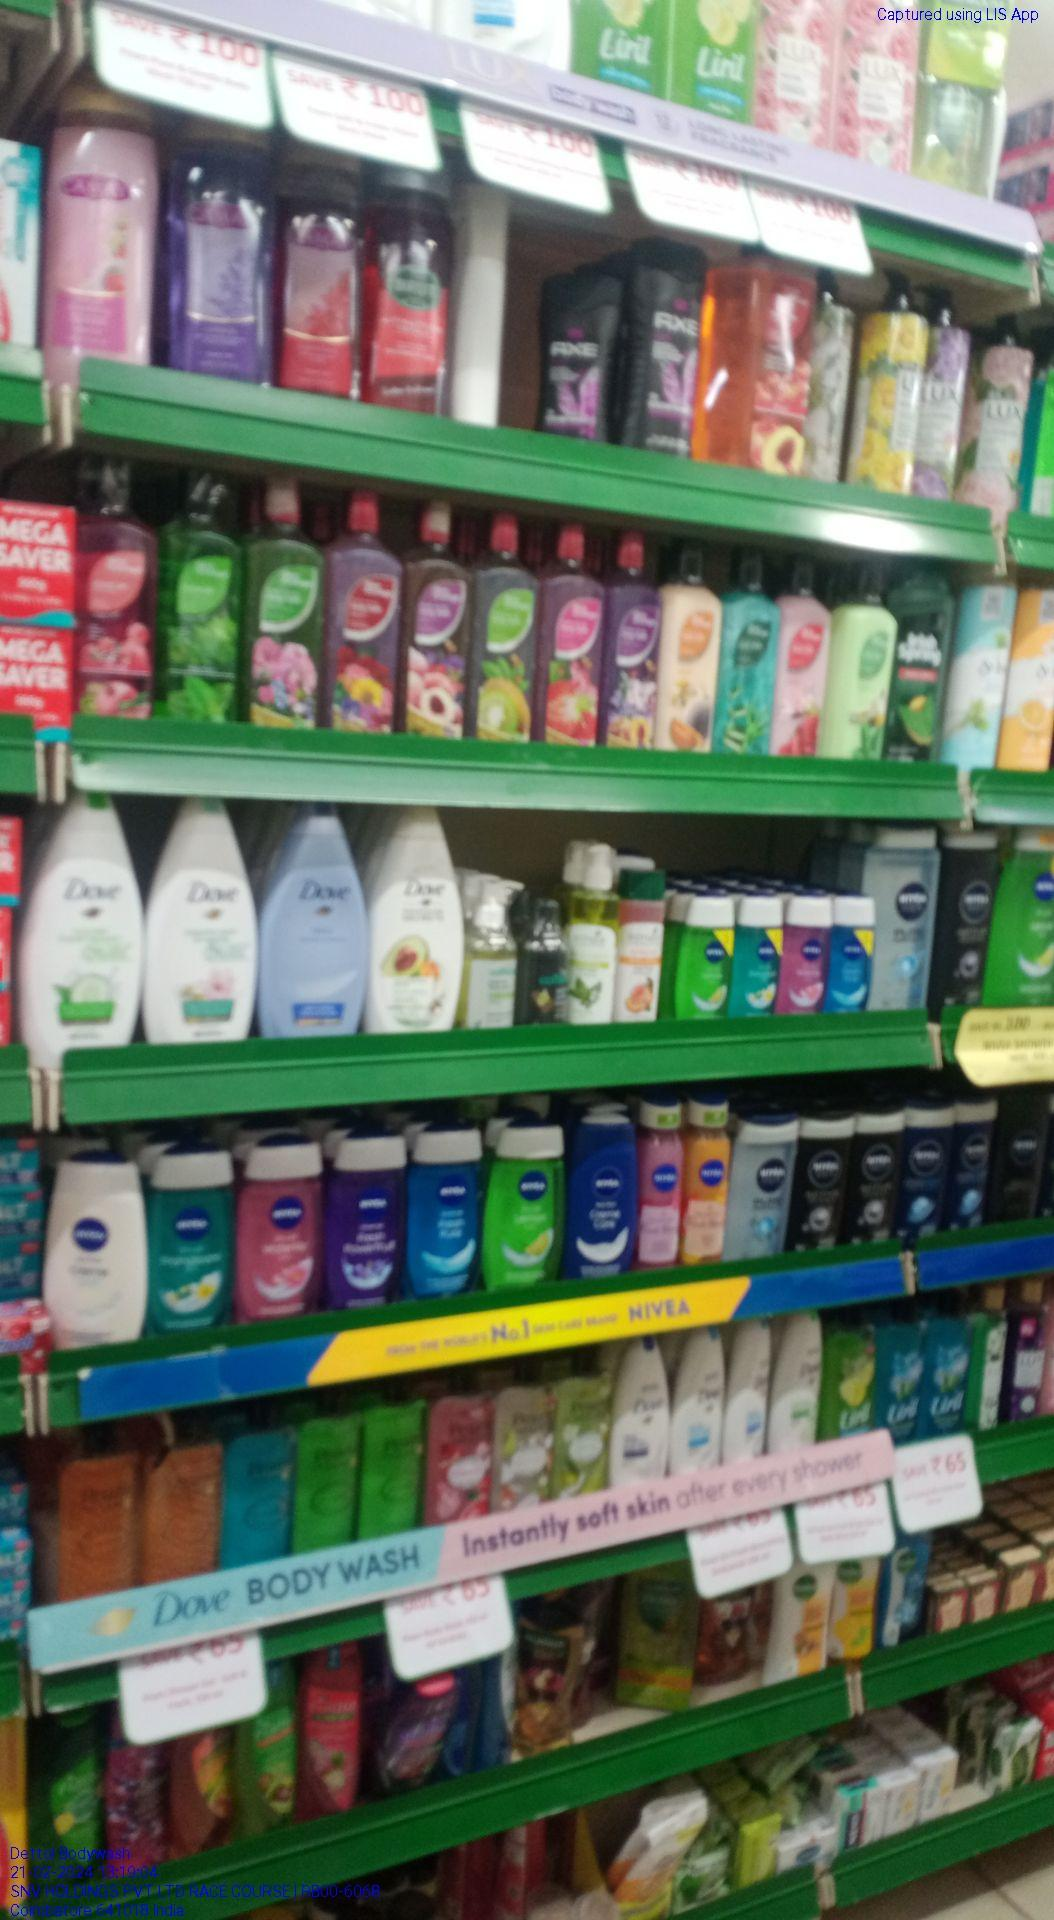Dettol_Bodywash_Refresh: (833, 1555, 876, 1657)
Dove_Deep_Moisture_Body_Wash_250ML: (613, 1338, 668, 1485)
Dove_Gentle_Exfoliating_Body_Wash_250ML: (671, 1332, 722, 1470), (727, 1327, 767, 1458)
Dove_Refreshing_Body_Wash_250ML: (32, 781, 136, 1056), (772, 1317, 818, 1450)
Fiama_Shower_Gel_Peach_and_Avocado_250ML: (243, 1714, 296, 1836)
Liril_Cooling_Mint_Body_Wash_250ML: (927, 1295, 970, 1430), (879, 1302, 923, 1427), (881, 1552, 923, 1637)
Liril_Lime_and_Tea_Tree_Oil_Body_Wash_250ML: (824, 1312, 875, 1435)
Lux_Black_Orchid_Scent_and_Juniper_Oil_Body_Wash_245ML: (1007, 1279, 1044, 1415)
Lux_Body_Wash_Skin_Detox_Freesia_Scent_and_Alove_Vera_245ML: (974, 1288, 1002, 1430)
Nivea_Shower_Gel_Frangipani_and_Oil_250ML: (147, 1153, 239, 1326)
Nivea_Shower_Gel_Fresh_Powerfruit_250ML: (328, 1134, 409, 1309)
Nivea_Shower_Gel_Lemon_and_Oil_250ML: (484, 1133, 563, 1284)
Nivea_Shower_Gel_Waterlily_and_Oil_250ML: (245, 1148, 323, 1315)
Palmolive_Luminous_Oils_Invigorating_Macadamia_Oil_With_Peony_250ML: (517, 1601, 578, 1749)
Pears_Naturale_Aloe_Vera_Body_Wash_250ML: (495, 1358, 553, 1510)
Pears_Pure_Glycerin_and_Lemon_Flower_Extracts_Body_Wash_250ML: (361, 1386, 422, 1531), (299, 1396, 357, 1544)
Pears_Pure_Glycerin_and_Mint_Extracts_Body_Wash_250ML: (219, 1406, 296, 1559)
